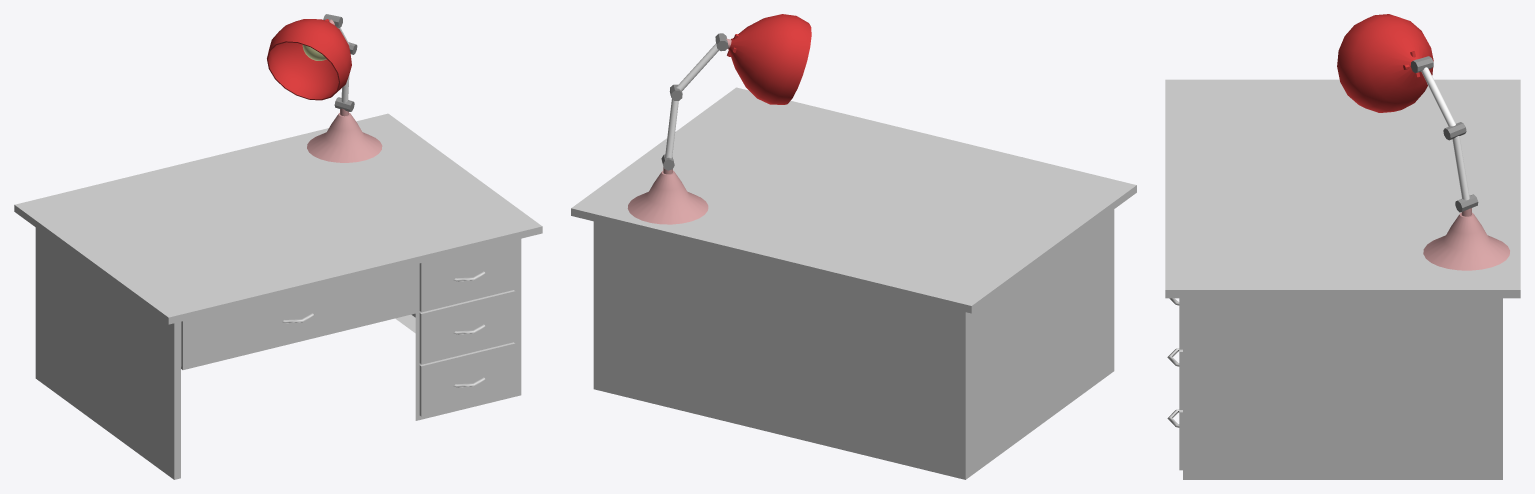
File: 辦公桌.FBX
3 renders of one model, left to right at view 1: azimuth 30°, elevation 25°; view 2: azimuth 150°, elevation 25°; view 3: azimuth 270°, elevation 25°, orthographic. The views are drawn at different scales.
Visible parts, largest first — view 1: Box001, Box002, Box003, Tube001, Box005, Box006, Box004, Cone001; view 2: Box002, Box001, Tube001, Cone001; view 3: Box001, Box002, Tube001, Cone001, Cone005, Cone004.
Boxes of the visible parts, box(x1,y1,x2,y2) form: Box001: box(14, 113, 542, 324); Box002: box(35, 227, 521, 479); Box003: box(181, 264, 416, 369); Tube001: box(267, 19, 351, 100); Box005: box(419, 290, 515, 364); Box006: box(419, 342, 515, 416); Box004: box(419, 240, 515, 311); Cone001: box(307, 112, 382, 162); Box002: box(593, 209, 1114, 479); Box001: box(571, 87, 1136, 313); Tube001: box(728, 14, 811, 104); Cone001: box(627, 170, 708, 224); Box001: box(1165, 79, 1520, 298); Box002: box(1183, 298, 1502, 479); Tube001: box(1337, 14, 1433, 112); Cone001: box(1423, 212, 1509, 270); Cone005: box(1421, 67, 1455, 126); Cone004: box(1452, 136, 1469, 200).
Bounding box in the file's own units: 70 × 60.7 × 50.
